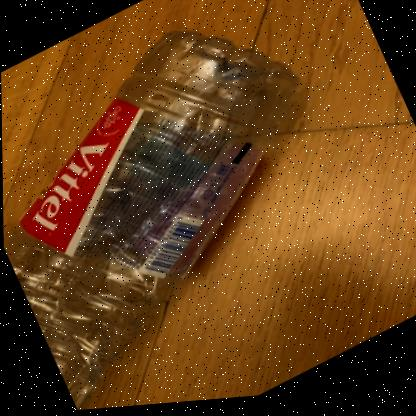Plastic: (3, 32, 297, 411)
